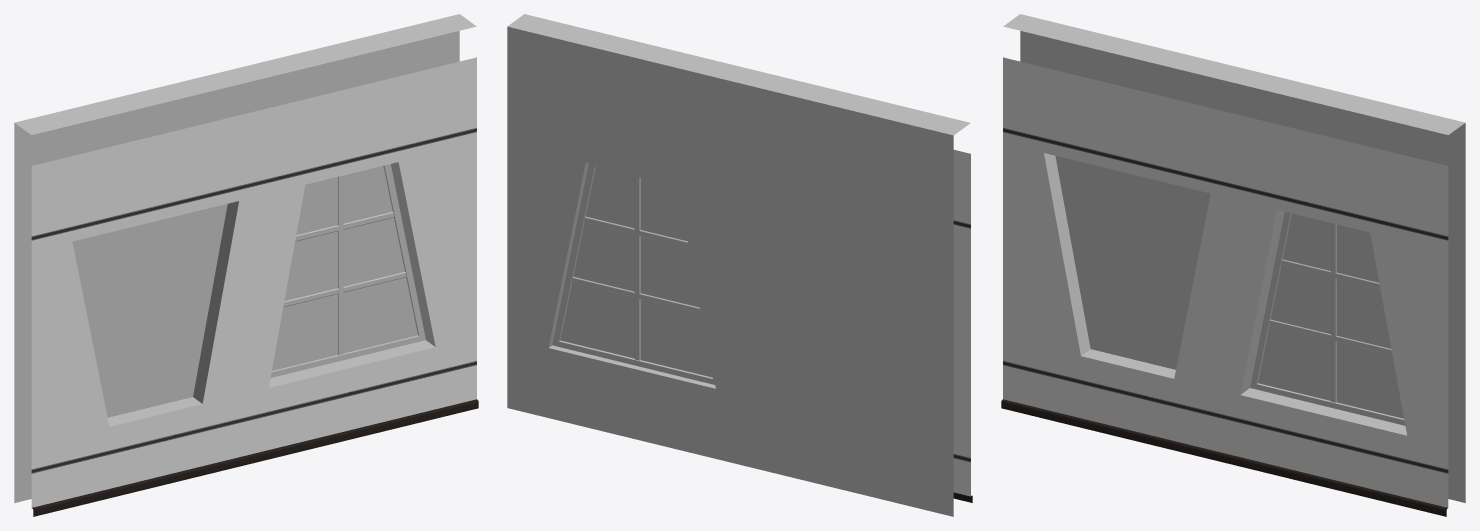
File: Wall01.FBX
The picture shows the model from 3 angles, left to right: view 1: azimuth 30°, elevation 25°; view 2: azimuth 150°, elevation 25°; view 3: azimuth 330°, elevation 25°; orthographic projection.
Visible parts, largest first — view 1: Wall01; view 2: Wall01; view 3: Wall01.
Boxes of the visible parts, x1=… form: Wall01: x1=14, y1=14, x2=478, y2=516; Wall01: x1=507, y1=14, x2=972, y2=516; Wall01: x1=1001, y1=14, x2=1465, y2=516.
Bounding box in the file's own units: 6 × 4.9 × 0.44.
